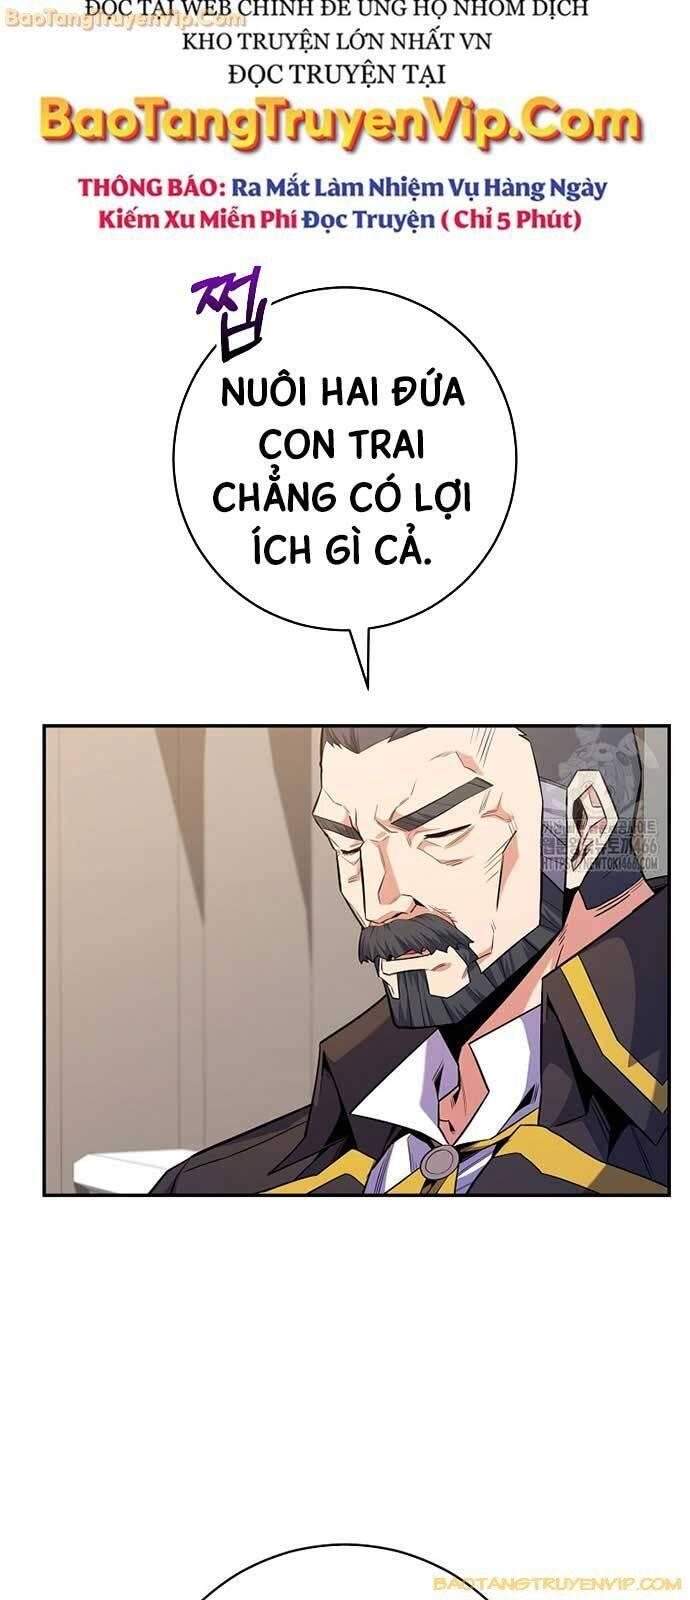quangcao: (34, 0, 650, 230)
